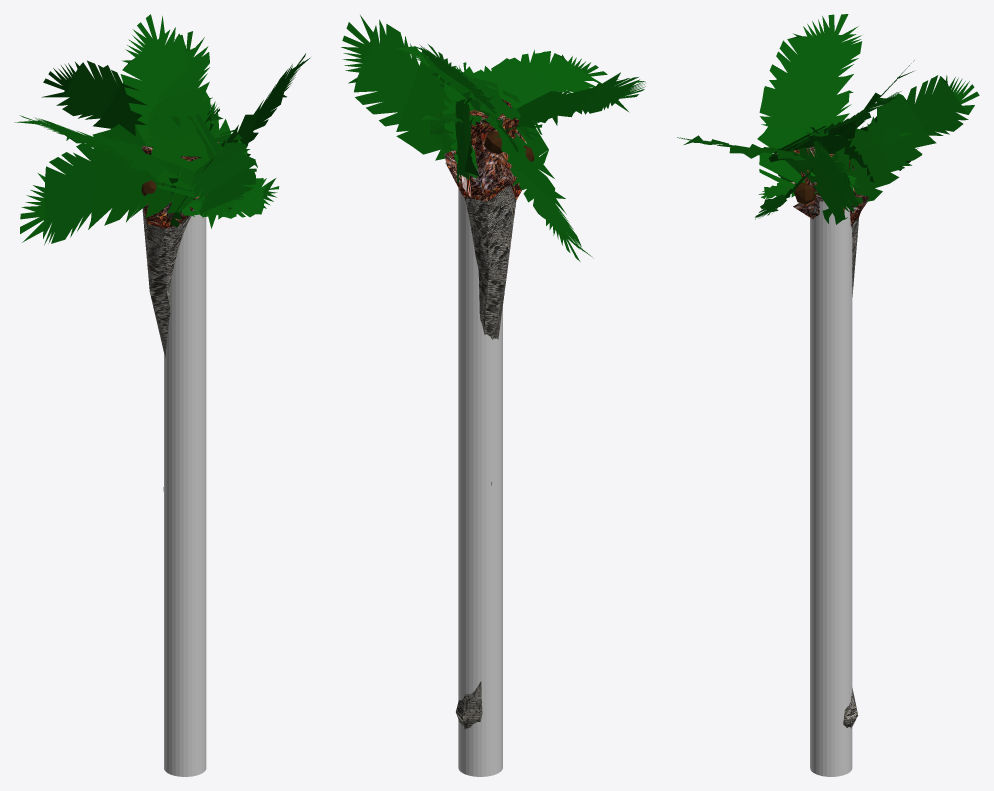
The model's file is PalmTree.glb.
3 views of the same model, side by side, from view 1: azimuth 30°, elevation 25°; view 2: azimuth 150°, elevation 25°; view 3: azimuth 270°, elevation 25° (orthographic). The views are drawn at different scales.
Parts seen in each view (by area): view 1: Branches, colonly_Palm Tree, Trunk; view 2: Branches, colonly_Palm Tree, Trunk; view 3: colonly_Palm Tree, Branches, Trunk.
Part boxes in pixels (x1,y1,x2,y2): Branches: (14, 14, 310, 245); colonly_Palm Tree: (164, 214, 206, 776); Trunk: (142, 142, 219, 491); Branches: (341, 15, 645, 261); colonly_Palm Tree: (458, 188, 502, 776); Trunk: (444, 99, 526, 729); colonly_Palm Tree: (810, 201, 852, 776); Branches: (677, 14, 979, 224); Trunk: (788, 146, 869, 728).
Bounding box in the file's own units: 5.36 × 13.08 × 5.03.
4 materials, 2 textured.
